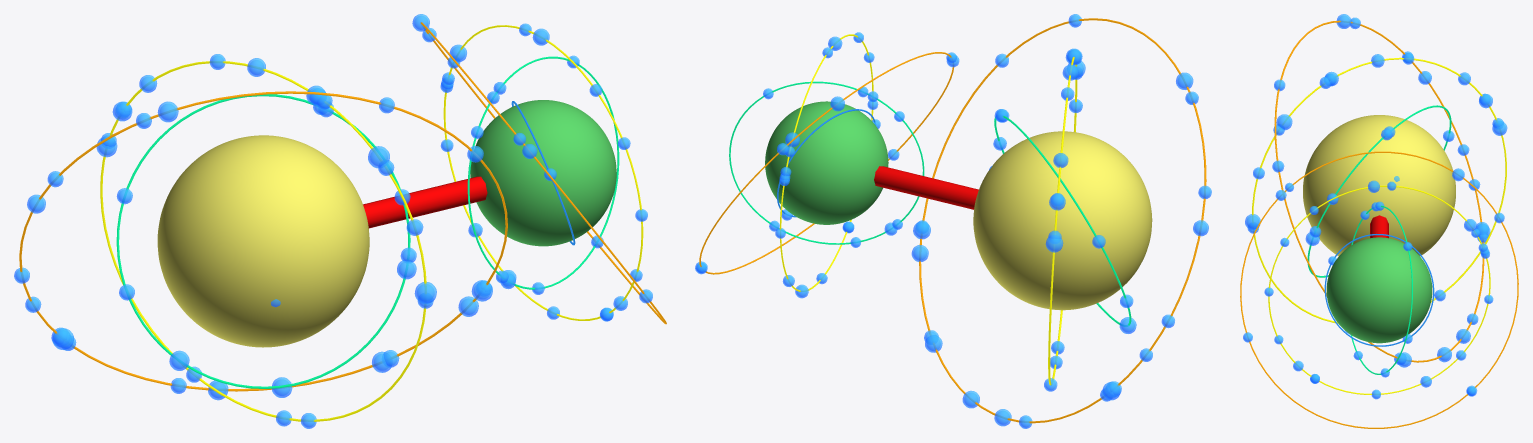
The model's file is AgBr.glb.
3 renders of one model, left to right at view 1: azimuth 30°, elevation 25°; view 2: azimuth 150°, elevation 25°; view 3: azimuth 270°, elevation 25°, orthographic. The views are drawn at different scales.
Visible parts, largest first — view 1: Ag, Br, object 61, object 175, object 24, object 7, object 123, object 160, object 106; view 2: Ag, Br, object 61, object 175, object 160, object 106, object 24, object 7, object 123; view 3: Ag, Br, object 160, object 61, object 24, object 123, object 101, object 7, object 106, object 175.
Part boxes in pixels (x1=…): Ag: x1=157, y1=135, x2=369, y2=347; Br: x1=470, y1=100, x2=616, y2=246; object 61: x1=19, y1=91, x2=507, y2=391; object 175: x1=363, y1=176, x2=487, y2=228; object 24: x1=100, y1=61, x2=426, y2=421; object 7: x1=116, y1=94, x2=410, y2=388; object 123: x1=443, y1=25, x2=643, y2=320; object 160: x1=420, y1=22, x2=666, y2=324; object 106: x1=467, y1=56, x2=619, y2=289; Ag: x1=973, y1=131, x2=1152, y2=310; Br: x1=765, y1=101, x2=888, y2=224; object 61: x1=919, y1=18, x2=1206, y2=423; object 175: x1=874, y1=166, x2=978, y2=209; object 160: x1=699, y1=52, x2=953, y2=274; object 106: x1=729, y1=81, x2=924, y2=244; object 24: x1=1048, y1=57, x2=1077, y2=385; object 7: x1=994, y1=116, x2=1131, y2=325; object 123: x1=779, y1=34, x2=873, y2=291; Ag: x1=1303, y1=115, x2=1455, y2=256; Br: x1=1326, y1=237, x2=1432, y2=343; object 160: x1=1240, y1=151, x2=1518, y2=428; object 61: x1=1274, y1=20, x2=1484, y2=362; object 24: x1=1252, y1=57, x2=1506, y2=323; object 123: x1=1268, y1=185, x2=1490, y2=394; object 101: x1=1324, y1=234, x2=1434, y2=346; object 7: x1=1307, y1=105, x2=1451, y2=277; object 106: x1=1350, y1=205, x2=1412, y2=374; object 175: x1=1370, y1=215, x2=1388, y2=238.
Bounding box in the file's own units: 10.4 × 6.85 × 5.97.
